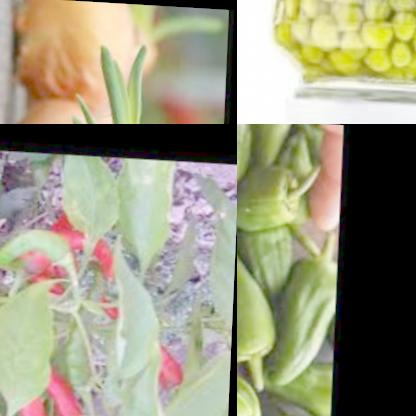hot pepper: (6, 203, 130, 302), (275, 230, 341, 393), (237, 140, 333, 237), (94, 293, 190, 387), (237, 234, 286, 388), (0, 216, 96, 284), (247, 208, 304, 291), (35, 359, 103, 416), (9, 370, 66, 416), (255, 124, 312, 170), (237, 359, 282, 416), (237, 124, 258, 203)
onion: (0, 0, 141, 99), (2, 72, 135, 124)
peas: (275, 0, 416, 77)
